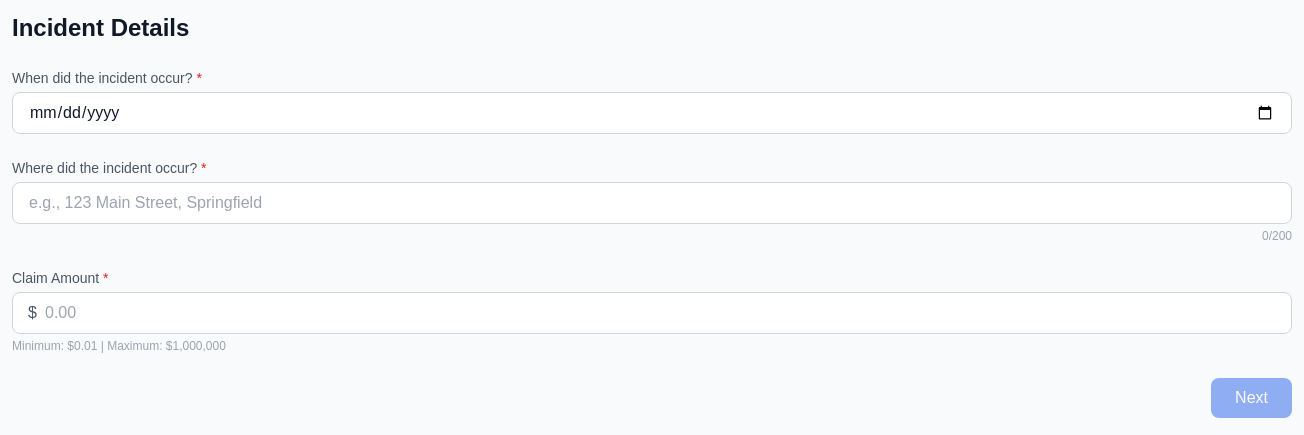
Test: WizardStep1 › Location Character Counter › should update character counter when typing
This screenshot has width=1304, height=435.
Type "Test location" into the field labelled "Where did the incident occur? *". click: (652, 203)
box: 12,182 -> 1292,224
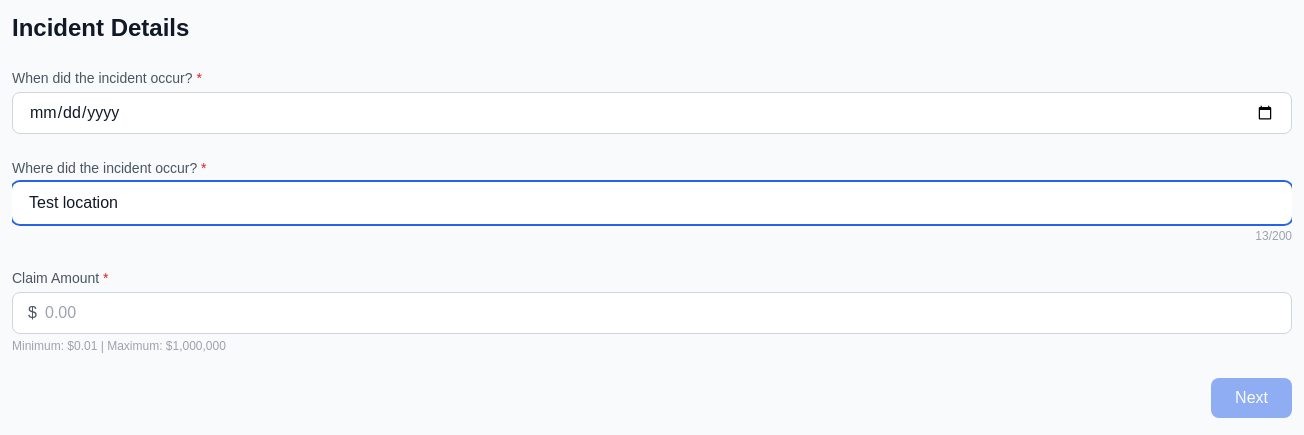
expect the text "13/200" is shown: met, box 1255,228 -> 1292,244
